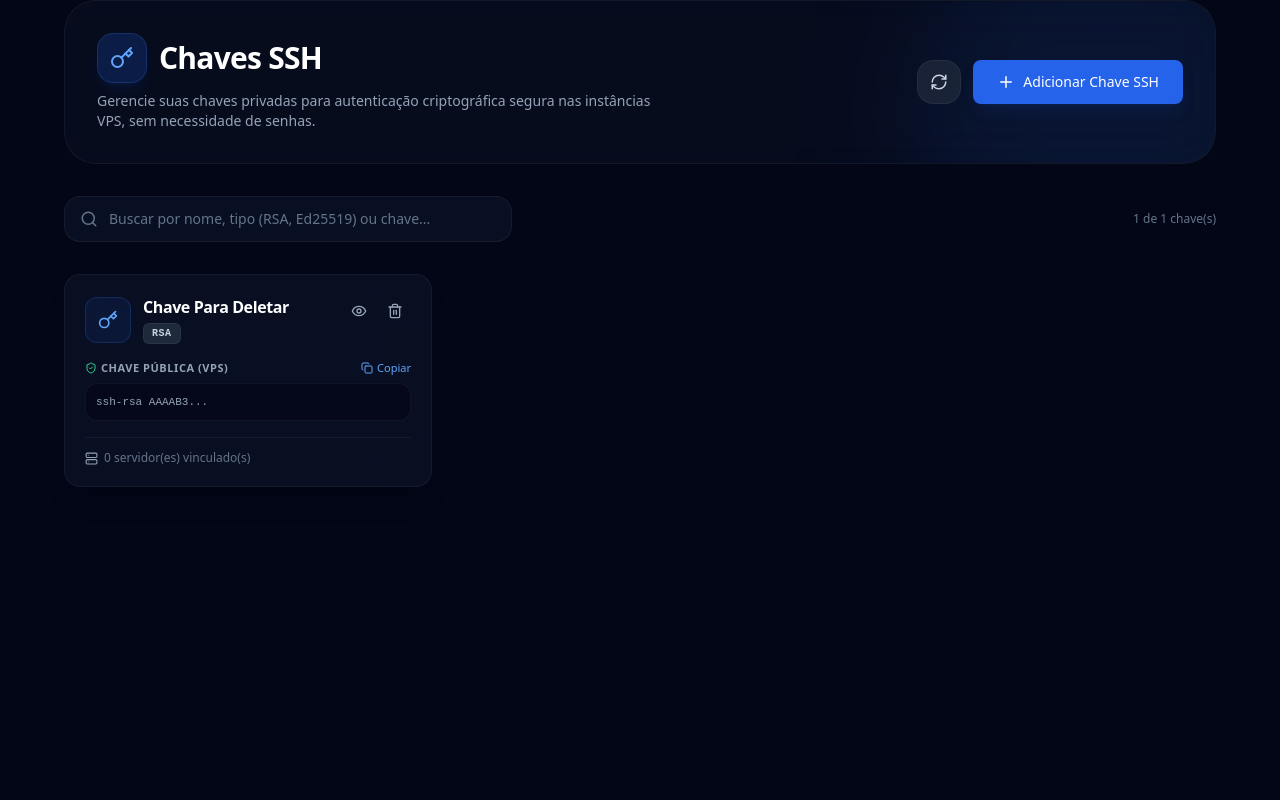
Test case: SshKeys Page Component › abre o modal de confirmação ao clicar no botão de excluir
Check: the heading "Chave Para Deletar" is shown, box [143, 295, 289, 319]
Click the button titled "Excluir Chave". click: (395, 311)
box: [379, 295, 411, 327]
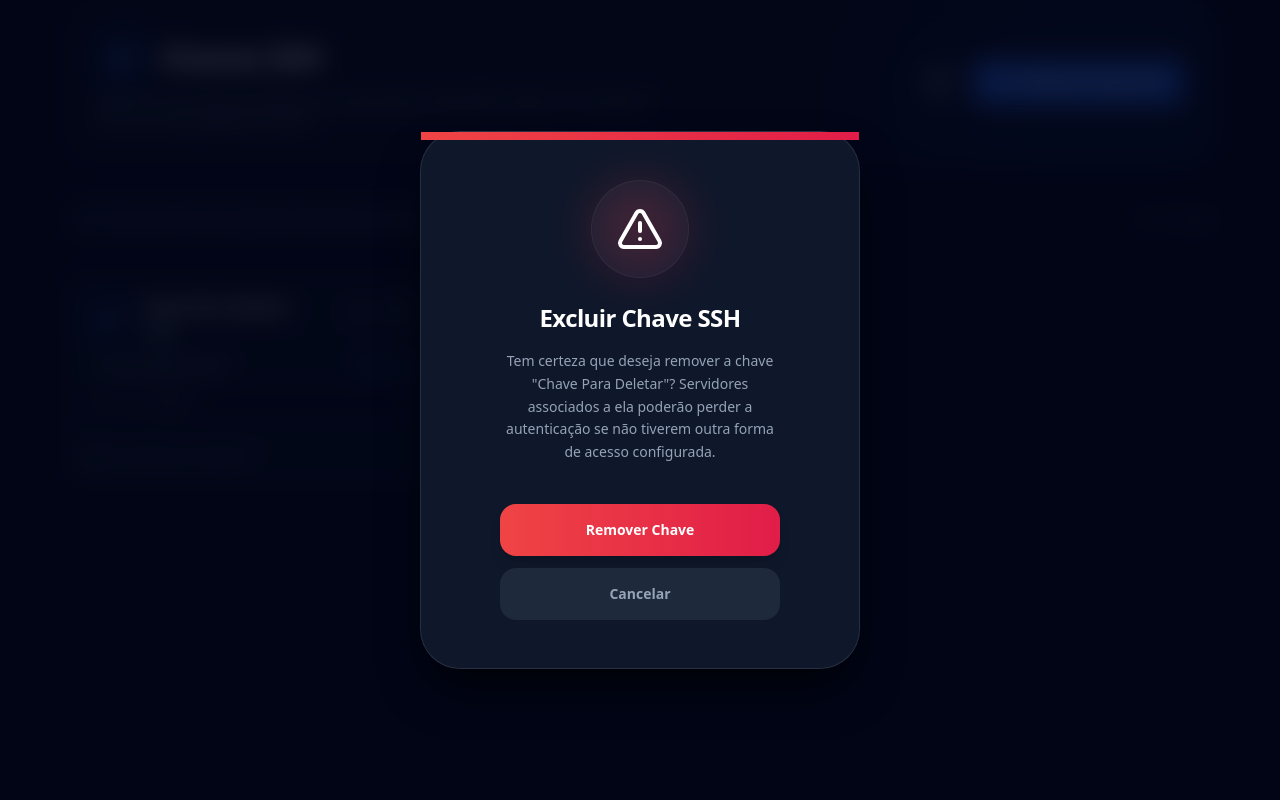
Check: the heading "Excluir Chave SSH" is shown, box [540, 302, 740, 334]
Check: the text "Tem certeza que deseja remover a chave \"Chave Para Deletar\"" is shown, box [506, 351, 774, 461]
